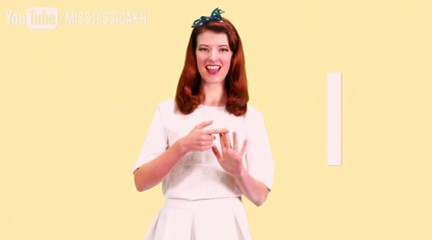I: (181, 112, 254, 181)
